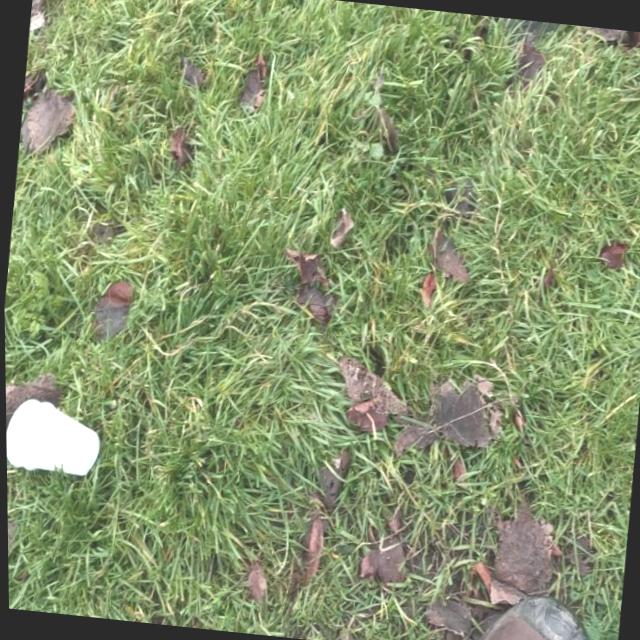Cup: (4, 386, 106, 483)
